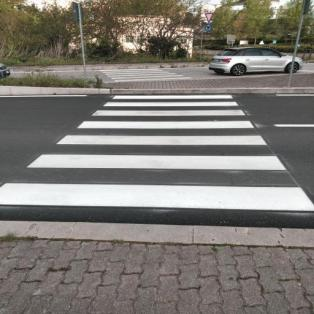Paso de Cebra: (0, 149, 314, 221), (70, 106, 278, 134)
